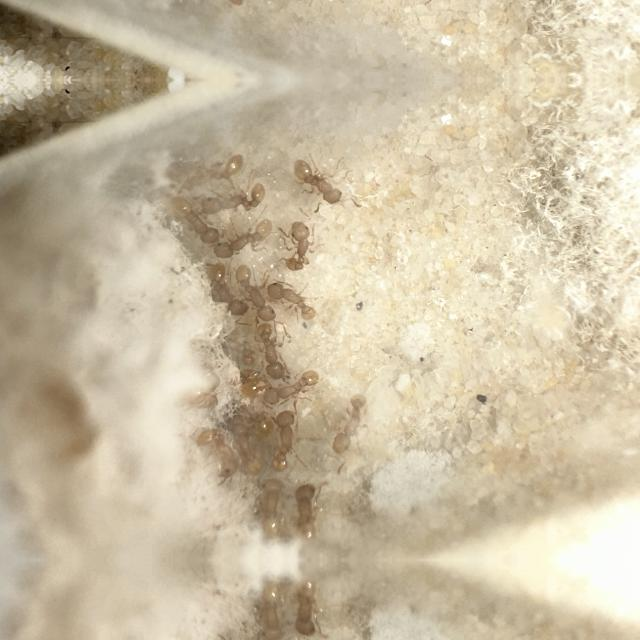Temnothorax: (164, 145, 252, 197), (323, 384, 381, 462), (186, 420, 252, 484), (284, 152, 352, 210), (160, 192, 224, 250), (218, 399, 264, 477), (263, 405, 309, 475), (286, 476, 332, 544), (198, 258, 248, 320), (214, 214, 280, 260), (286, 576, 332, 640), (250, 315, 294, 381), (276, 216, 324, 276), (264, 276, 324, 324), (260, 365, 328, 407), (232, 262, 280, 321), (250, 474, 290, 542), (250, 578, 288, 640), (230, 176, 274, 214), (164, 0, 252, 14)
